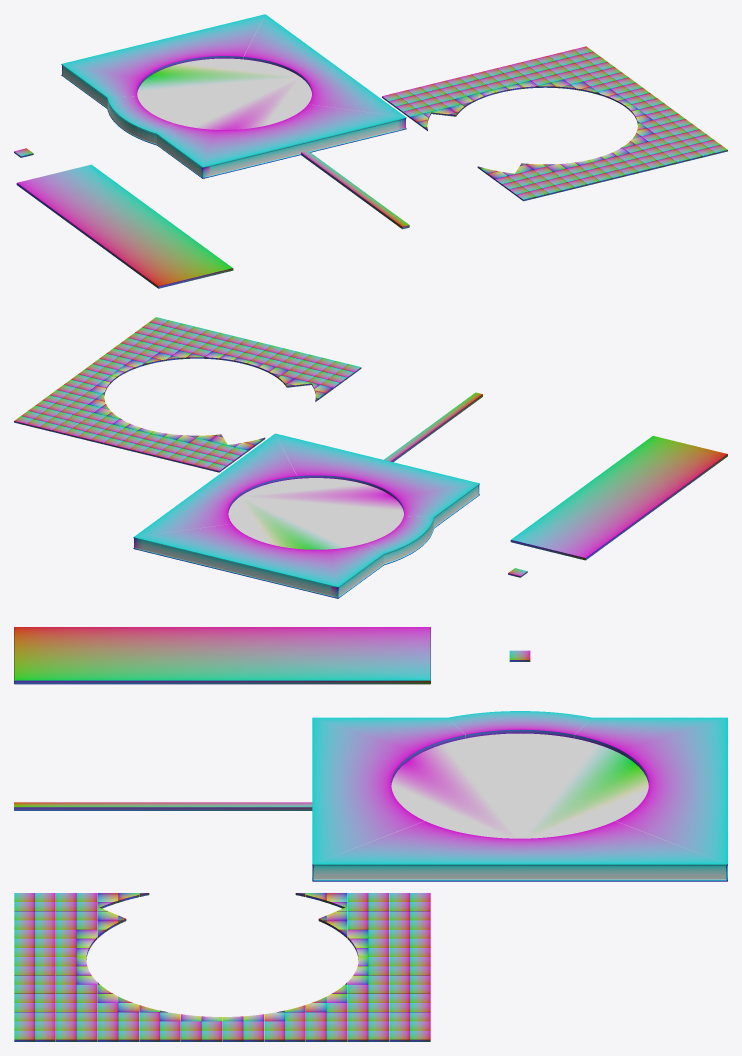
File: StageShift_Floors.fbx
3 views of the same model, one above another, from view 1: azimuth 30°, elevation 25°; view 2: azimuth 150°, elevation 25°; view 3: azimuth 270°, elevation 25° (orthographic). The views are drawn at different scales.
Visible parts, largest first — view 1: Stage_Foundation, Backstage_Floor_Around_Rail, Auditorium_Deck, Auditorium_Front_Landing; view 2: Stage_Foundation, Backstage_Floor_Around_Rail, Auditorium_Deck, Auditorium_Front_Landing; view 3: Stage_Foundation, Backstage_Floor_Around_Rail, Auditorium_Deck, Auditorium_Front_Landing.
Part boxes in pixels (left/top/right/bottom): Stage_Foundation: left=61, top=14, right=406, bottom=178; Backstage_Floor_Around_Rail: left=382, top=46, right=727, bottom=201; Auditorium_Deck: left=16, top=164, right=233, bottom=288; Auditorium_Front_Landing: left=301, top=151, right=409, bottom=229; Stage_Foundation: left=133, top=433, right=479, bottom=598; Backstage_Floor_Around_Rail: left=14, top=317, right=361, bottom=472; Auditorium_Deck: left=510, top=436, right=727, bottom=560; Auditorium_Front_Landing: left=384, top=392, right=482, bottom=462; Stage_Foundation: left=312, top=711, right=727, bottom=881; Backstage_Floor_Around_Rail: left=14, top=893, right=430, bottom=1041; Auditorium_Deck: left=14, top=627, right=430, bottom=684; Auditorium_Front_Landing: left=14, top=802, right=312, bottom=810.
Size of the model in its own units: 6503 by 146 by 4798.
